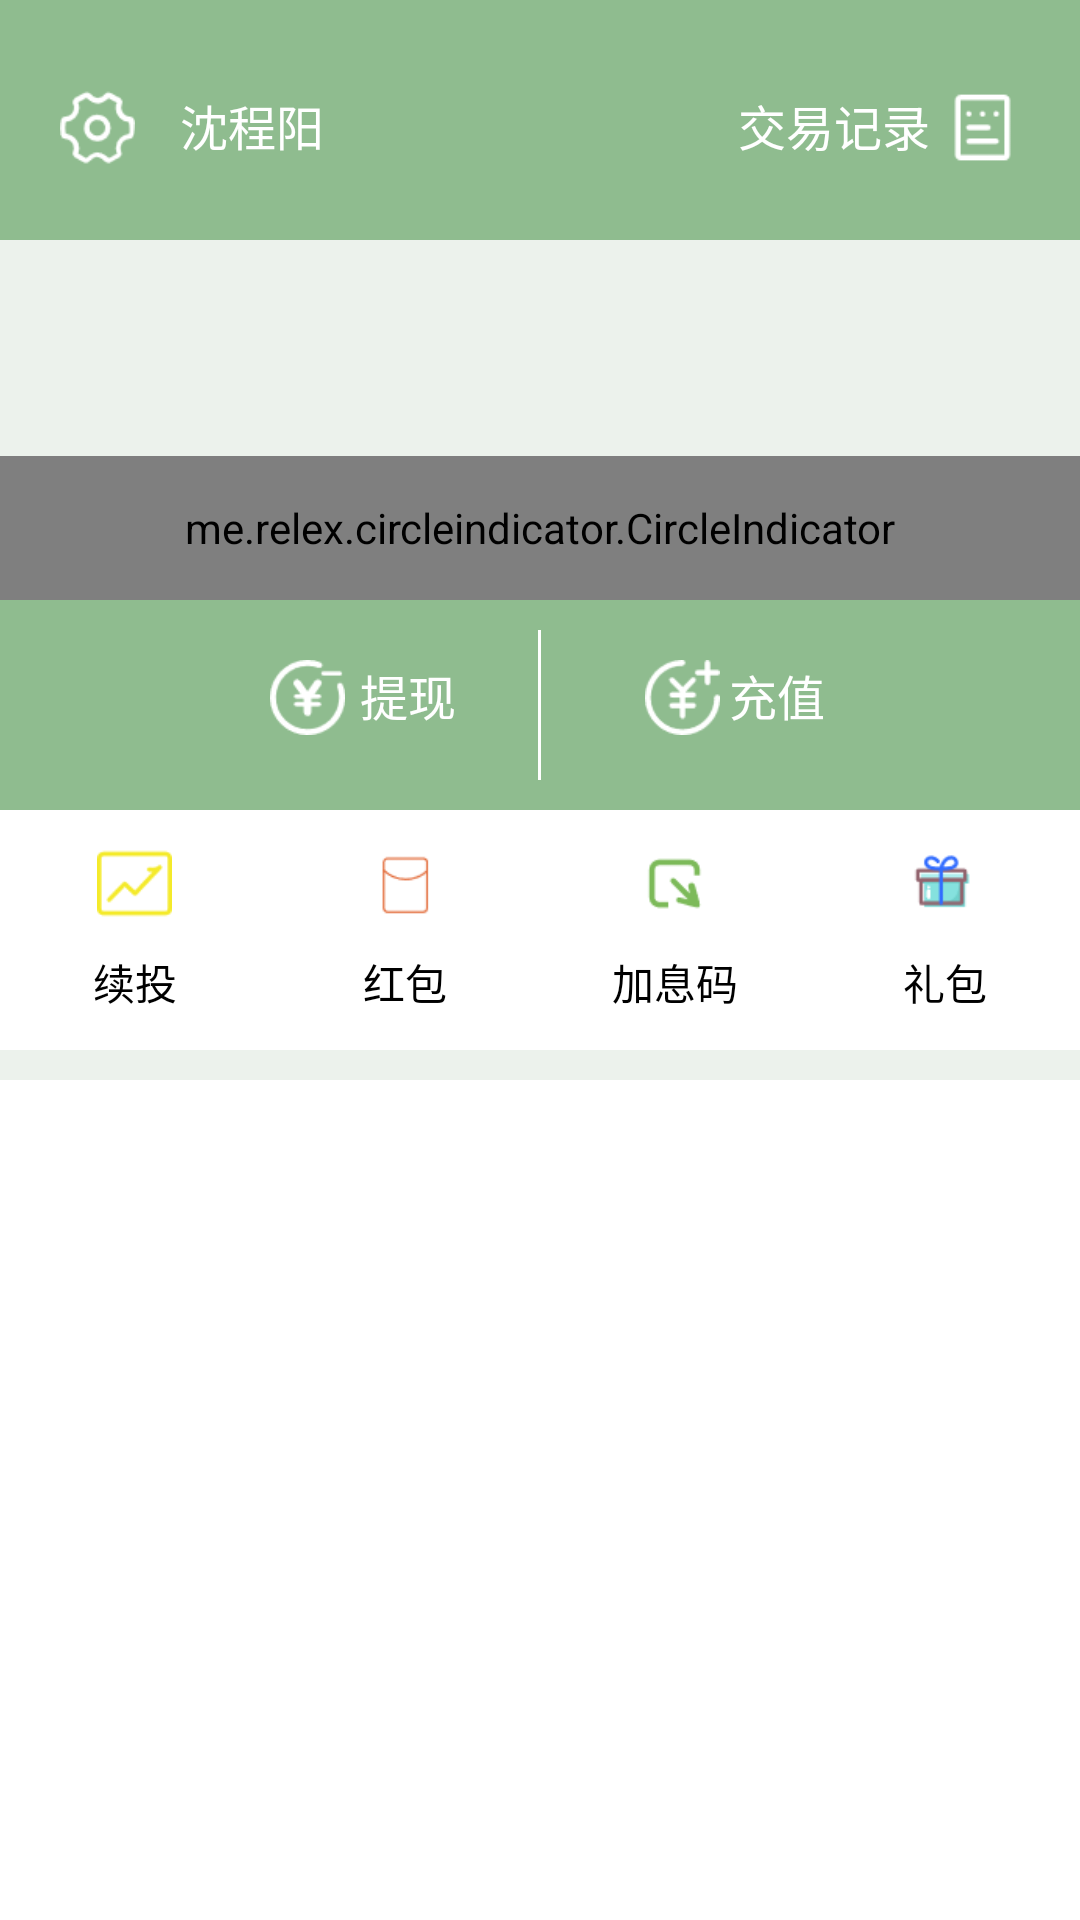

Named icons in this screenshot (1080px x 1920px) and their bounding boxes, (x1, y1, x2, y2):
setting: (60, 92, 135, 164)
